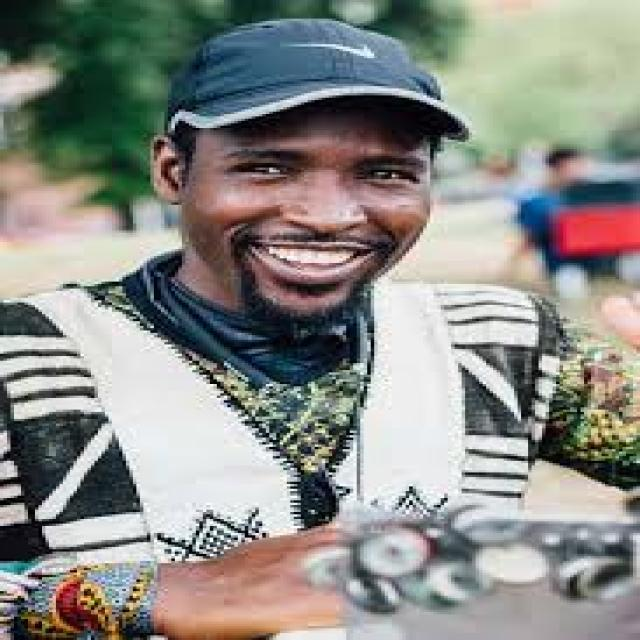3_gorra: (155, 15, 472, 148)
